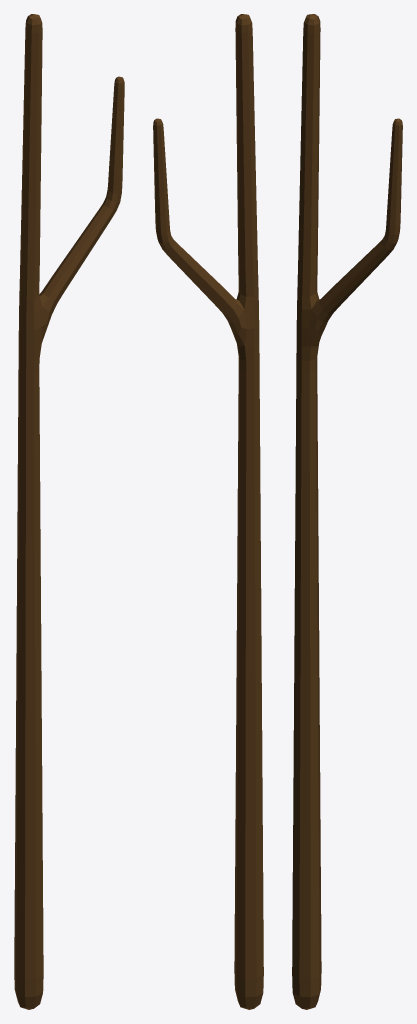
The model's file is Twigs.fbx.
3 renders of one model, left to right at view 1: azimuth 30°, elevation 25°; view 2: azimuth 210°, elevation 25°; view 3: azimuth 330°, elevation 25°, orthographic.
Parts seen in each view (by area): view 1: Plane; view 2: Plane; view 3: Plane.
Part boxes in pixels (<box>): Plane: <box>14,14,124,1009</box>; Plane: <box>153,14,263,1009</box>; Plane: <box>292,14,402,1009</box>.
Bounding box in the file's own units: 11.03 × 97.12 × 2.62.
